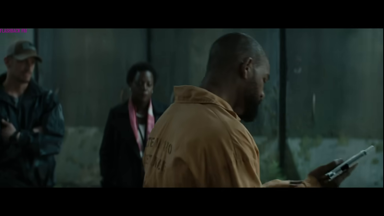firearm: (317, 140, 376, 185)
